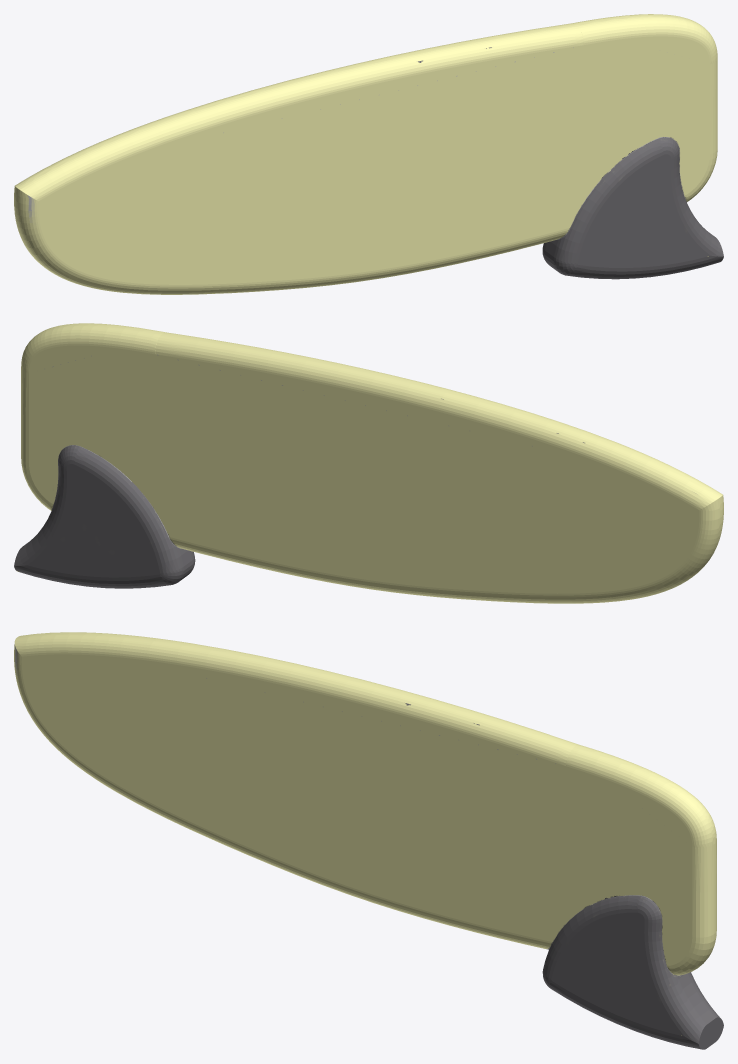
Rendered from rudder.dae.
The picture shows the model from 3 angles, top to bottom: view 1: azimuth 30°, elevation 25°; view 2: azimuth 150°, elevation 25°; view 3: azimuth 330°, elevation 25°; orthographic projection.
Visible parts, largest first — view 1: Rudder_v4; view 2: Rudder_v4; view 3: Rudder_v4.
Boxes of the visible parts, box(x1,y1,x2,y2) form: Rudder_v4: box(14, 14, 723, 294); Rudder_v4: box(14, 323, 723, 603); Rudder_v4: box(14, 632, 723, 1049).
Size of the model in its own units: 0.9155 by 0.06 by 0.3505.
1 material, 1 textured.
